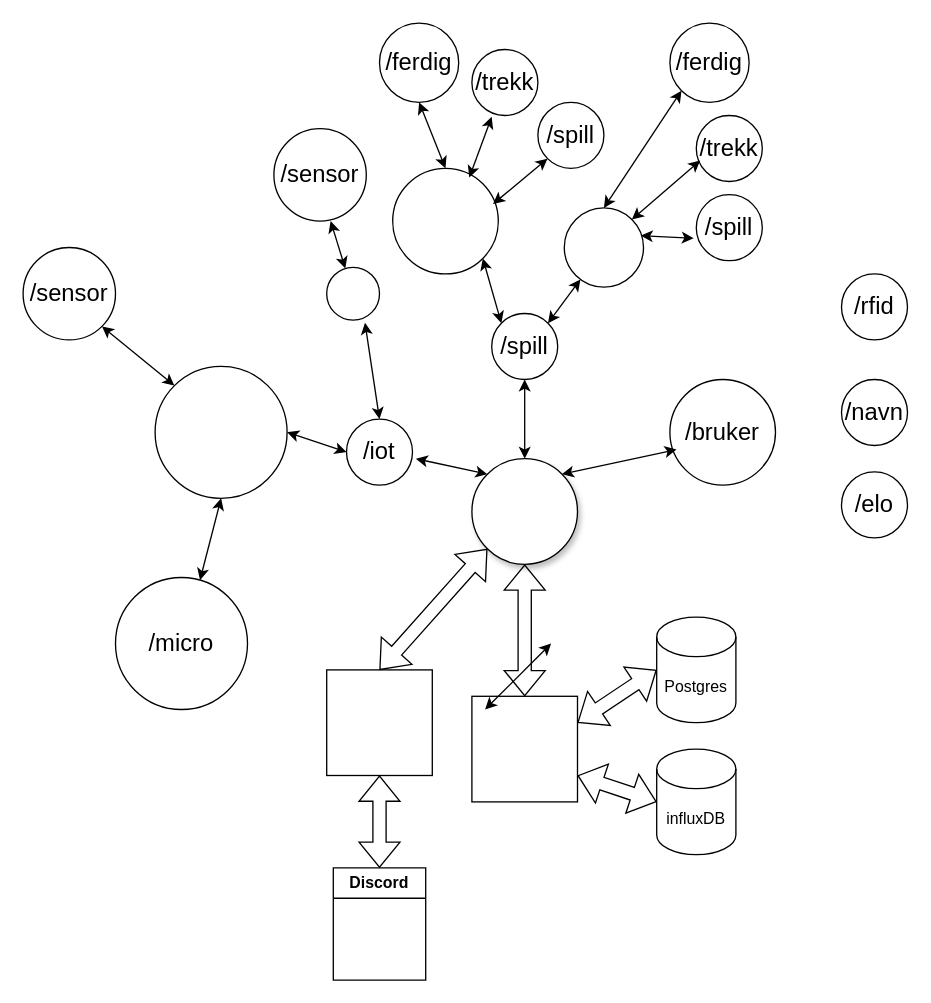
This 931x1003 diagram has some shape labels left out. The shapes that lost their labels are listed below. From the top down, each one's centre as x and y in pixels, then its label:
At point (444, 220): "/foosball".
At point (603, 247): "/sjakk".
At point (352, 293): "wc".
At point (220, 431): "/klasserom".
At point (525, 513): "MQTT Broaker".
At point (378, 722): "MQTT Bridge (Ask)".
At point (524, 748): "NodeRed".
